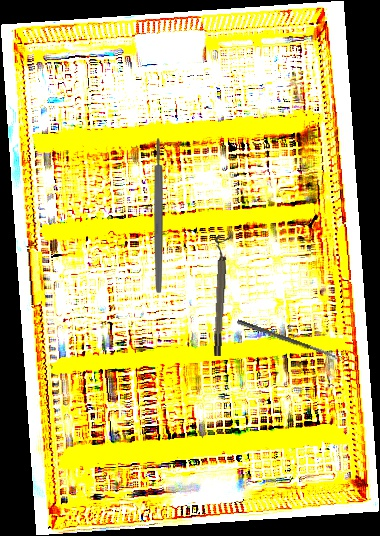Fixation Ring: (206, 234, 232, 357)
Scalpel Handle: (154, 138, 163, 293)
Surgical Spoon: (236, 319, 343, 362)
